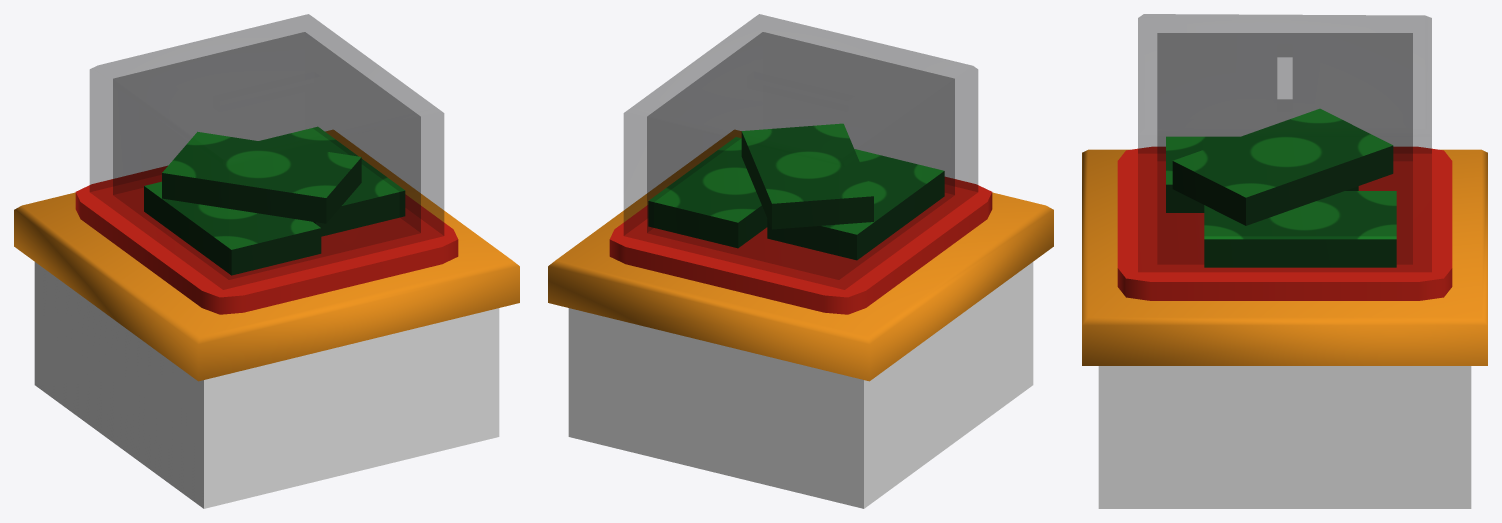
File: tipbox.FBX
3 views of the same model, side by side, from view 1: azimuth 30°, elevation 25°; view 2: azimuth 150°, elevation 25°; view 3: azimuth 270°, elevation 25° (orthographic). The views are drawn at different scales.
Parts seen in each view (by area): view 1: Object257; view 2: Object257; view 3: Object257.
Part boxes in pixels (<box>): Object257: <box>14,14,519,508</box>; Object257: <box>548,14,1053,508</box>; Object257: <box>1082,14,1487,508</box>.
Size of the model in its own units: 2.38 by 2.3 by 2.36.
